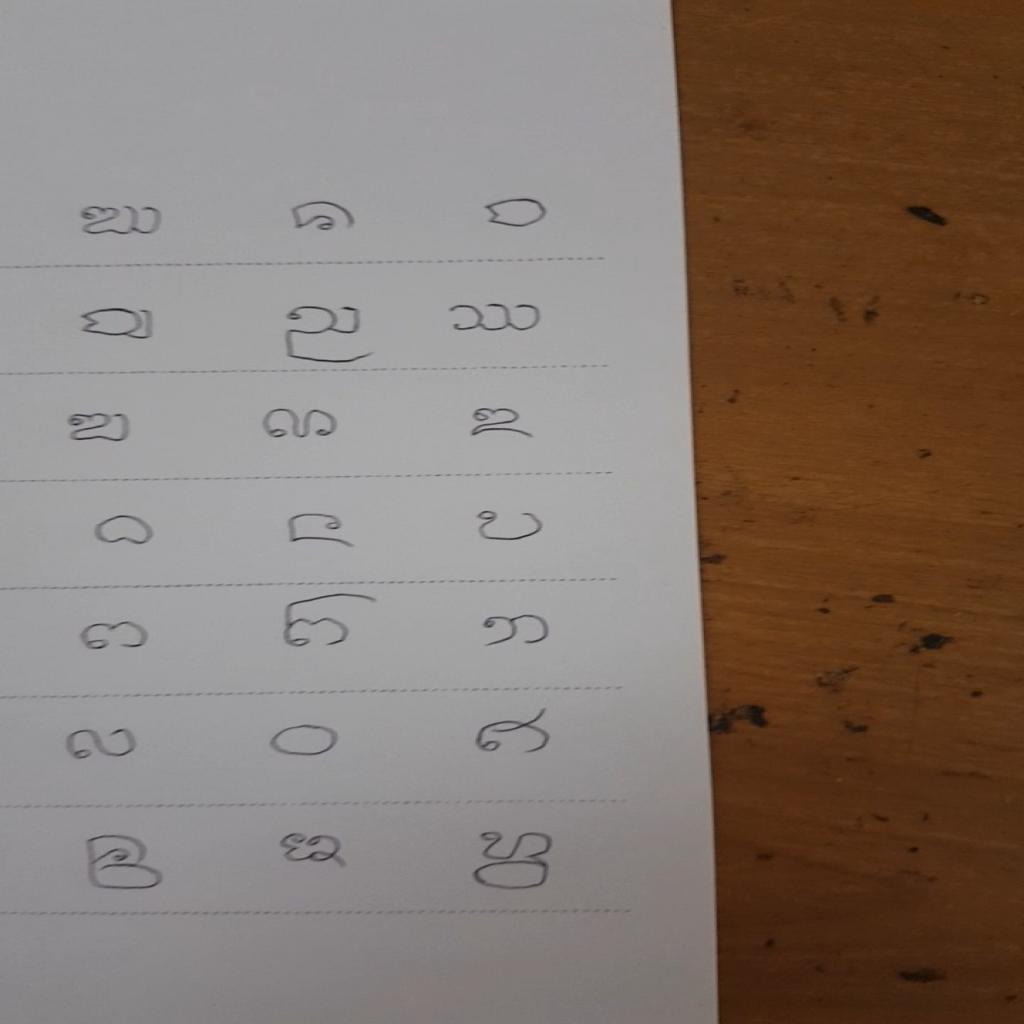LN004: (72, 201, 172, 241)
LN005: (287, 198, 365, 238)
LN006: (478, 194, 555, 233)
LN010: (76, 305, 165, 344)
LN011: (278, 301, 384, 368)
LN012: (441, 302, 550, 336)
LN016: (61, 408, 141, 448)
LN017: (260, 406, 345, 444)
LN018: (461, 403, 544, 444)
LN022: (89, 511, 163, 551)
LN023: (283, 510, 364, 553)
LN024: (470, 506, 557, 546)
LN028: (74, 618, 158, 653)
LN029: (278, 589, 382, 653)
LN030: (476, 612, 560, 652)
LN034: (61, 727, 145, 765)
LN035: (267, 722, 345, 760)
LN036: (471, 706, 559, 758)
LN040: (83, 834, 170, 892)
LN041: (274, 829, 354, 872)
LN042: (469, 828, 559, 895)
